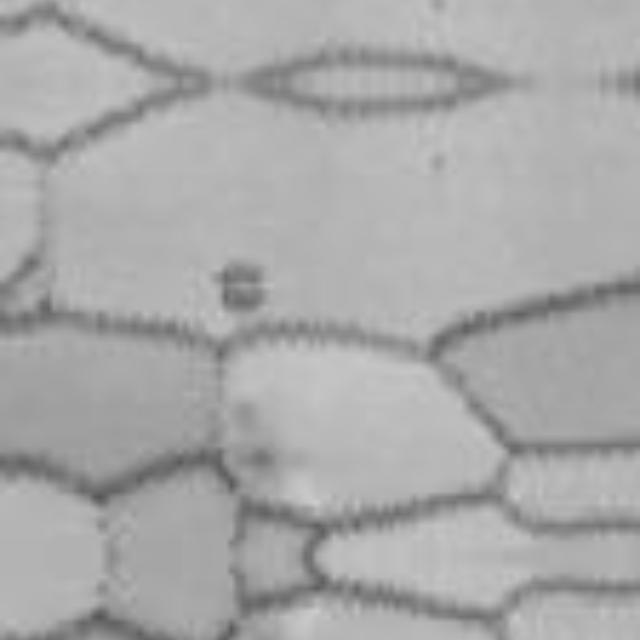good_void: (212, 256, 271, 314)
